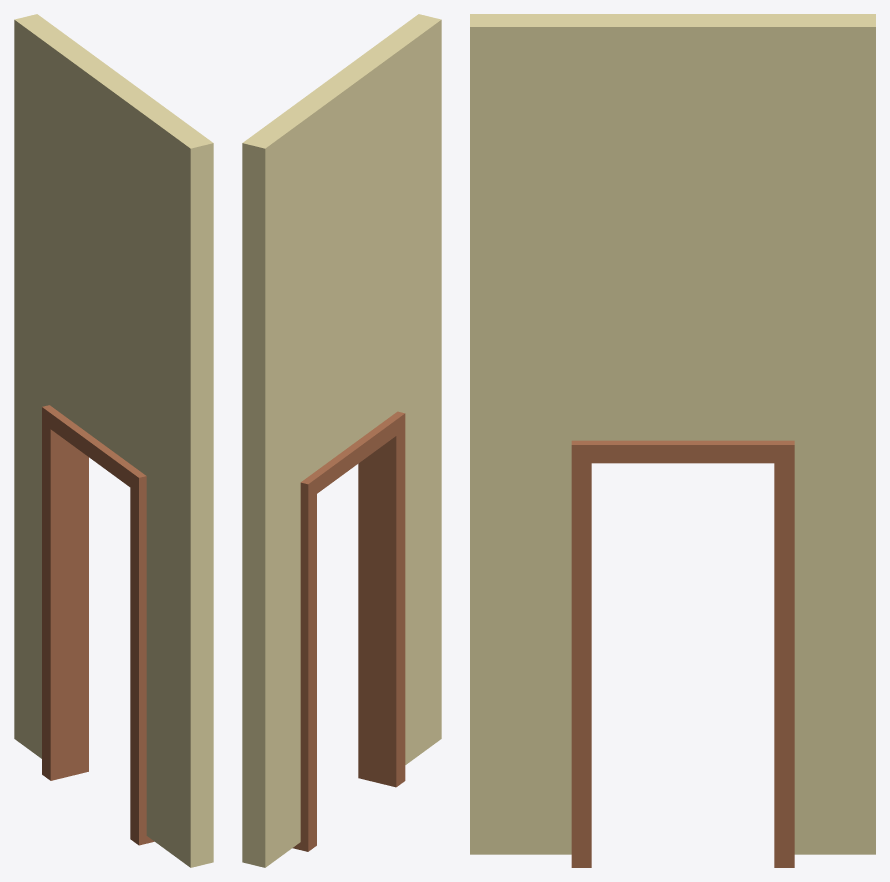
Rendered from Body&Mind_door.fbx.
3 views of the same model, side by side, from view 1: azimuth 30°, elevation 25°; view 2: azimuth 150°, elevation 25°; view 3: azimuth 270°, elevation 25° (orthographic). The views are drawn at different scales.
Parts seen in each view (by area): view 1: DoorFrame1.001; view 2: DoorFrame1.001; view 3: DoorFrame1.001.
Boxes of the visible parts, x1,y1,x2,y2 form: DoorFrame1.001: (14,14,213,867); DoorFrame1.001: (242,14,441,867); DoorFrame1.001: (470,14,875,867).
Size of the model in its own units: 50 by 910 by 400.
